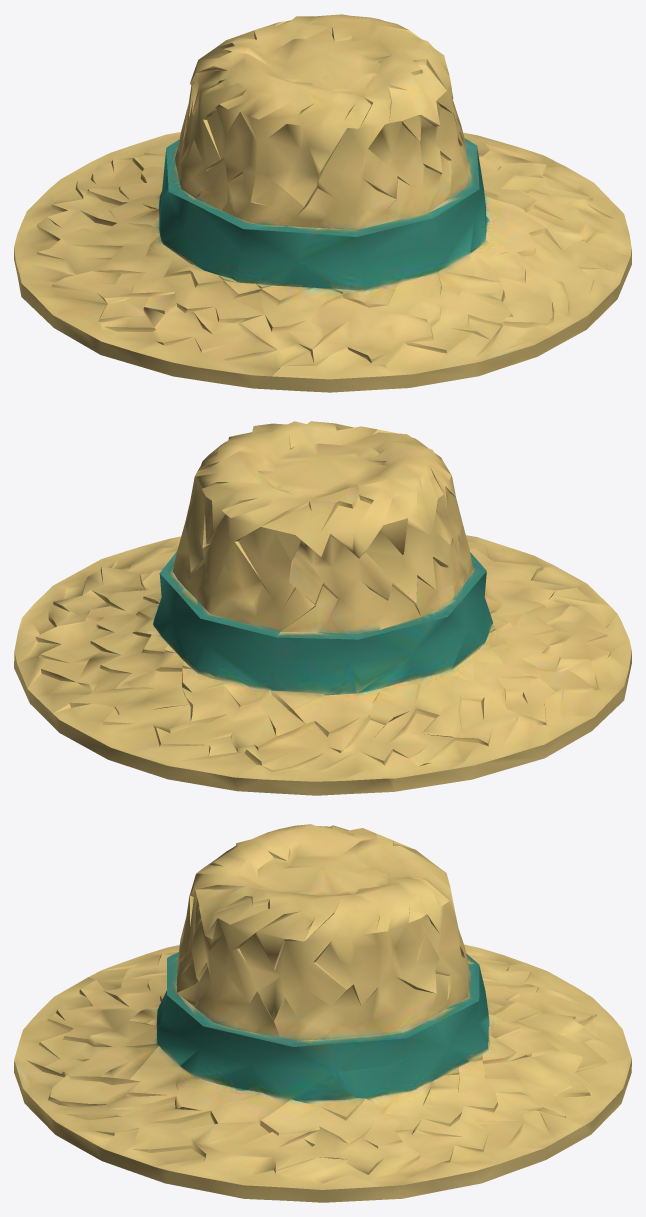
The model's file is hat_ws_straw_idle.glb.
3 views of the same model, one above another, from view 1: azimuth 30°, elevation 25°; view 2: azimuth 150°, elevation 25°; view 3: azimuth 270°, elevation 25° (orthographic).
Visible parts, largest first — view 1: tripo_node_4cb3de4a-b720-46db-a7f9-17d2d1f3ccb3; view 2: tripo_node_4cb3de4a-b720-46db-a7f9-17d2d1f3ccb3; view 3: tripo_node_4cb3de4a-b720-46db-a7f9-17d2d1f3ccb3.
Boxes of the visible parts, <box> form: tripo_node_4cb3de4a-b720-46db-a7f9-17d2d1f3ccb3: <box>14,14,631,392</box>; tripo_node_4cb3de4a-b720-46db-a7f9-17d2d1f3ccb3: <box>14,421,631,795</box>; tripo_node_4cb3de4a-b720-46db-a7f9-17d2d1f3ccb3: <box>14,824,631,1202</box>.
Bounding box in the file's own units: 0.4498 × 0.1685 × 0.4486.
1 material, 1 textured.
